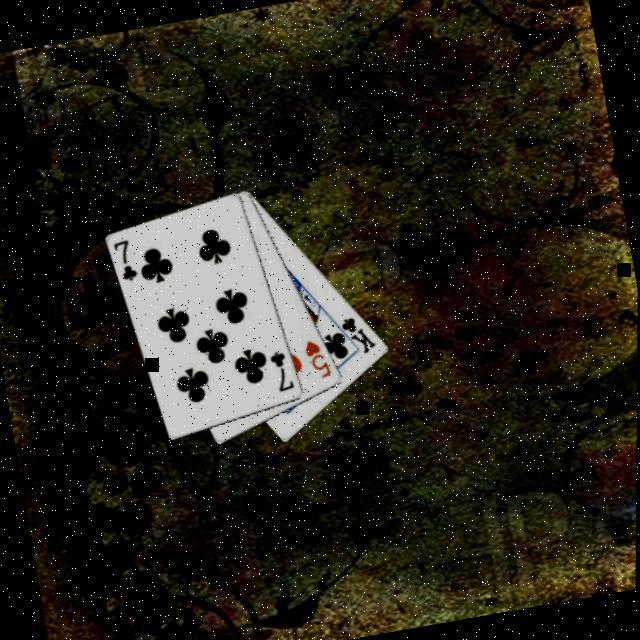5H: (298, 332, 334, 382)
7C: (107, 233, 140, 284), (264, 344, 296, 394)
KC: (328, 308, 378, 359)
